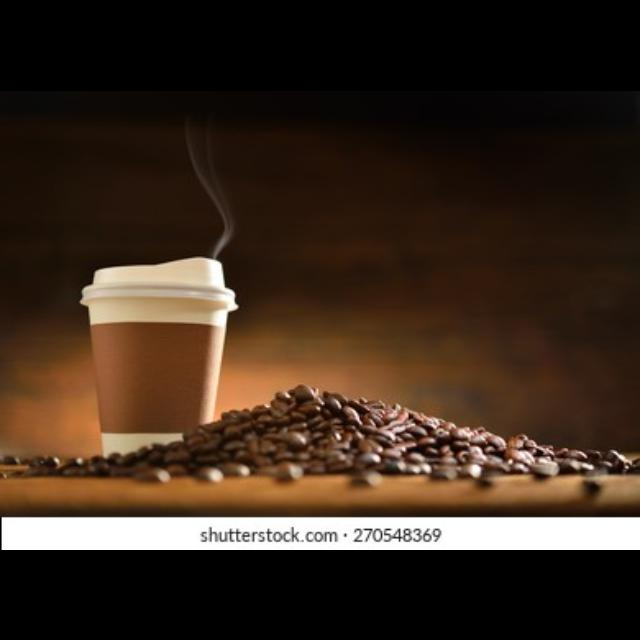trash: (82, 256, 236, 456)
